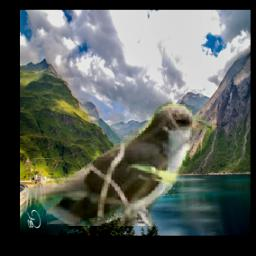Cuckoo: (26, 102, 212, 227)
